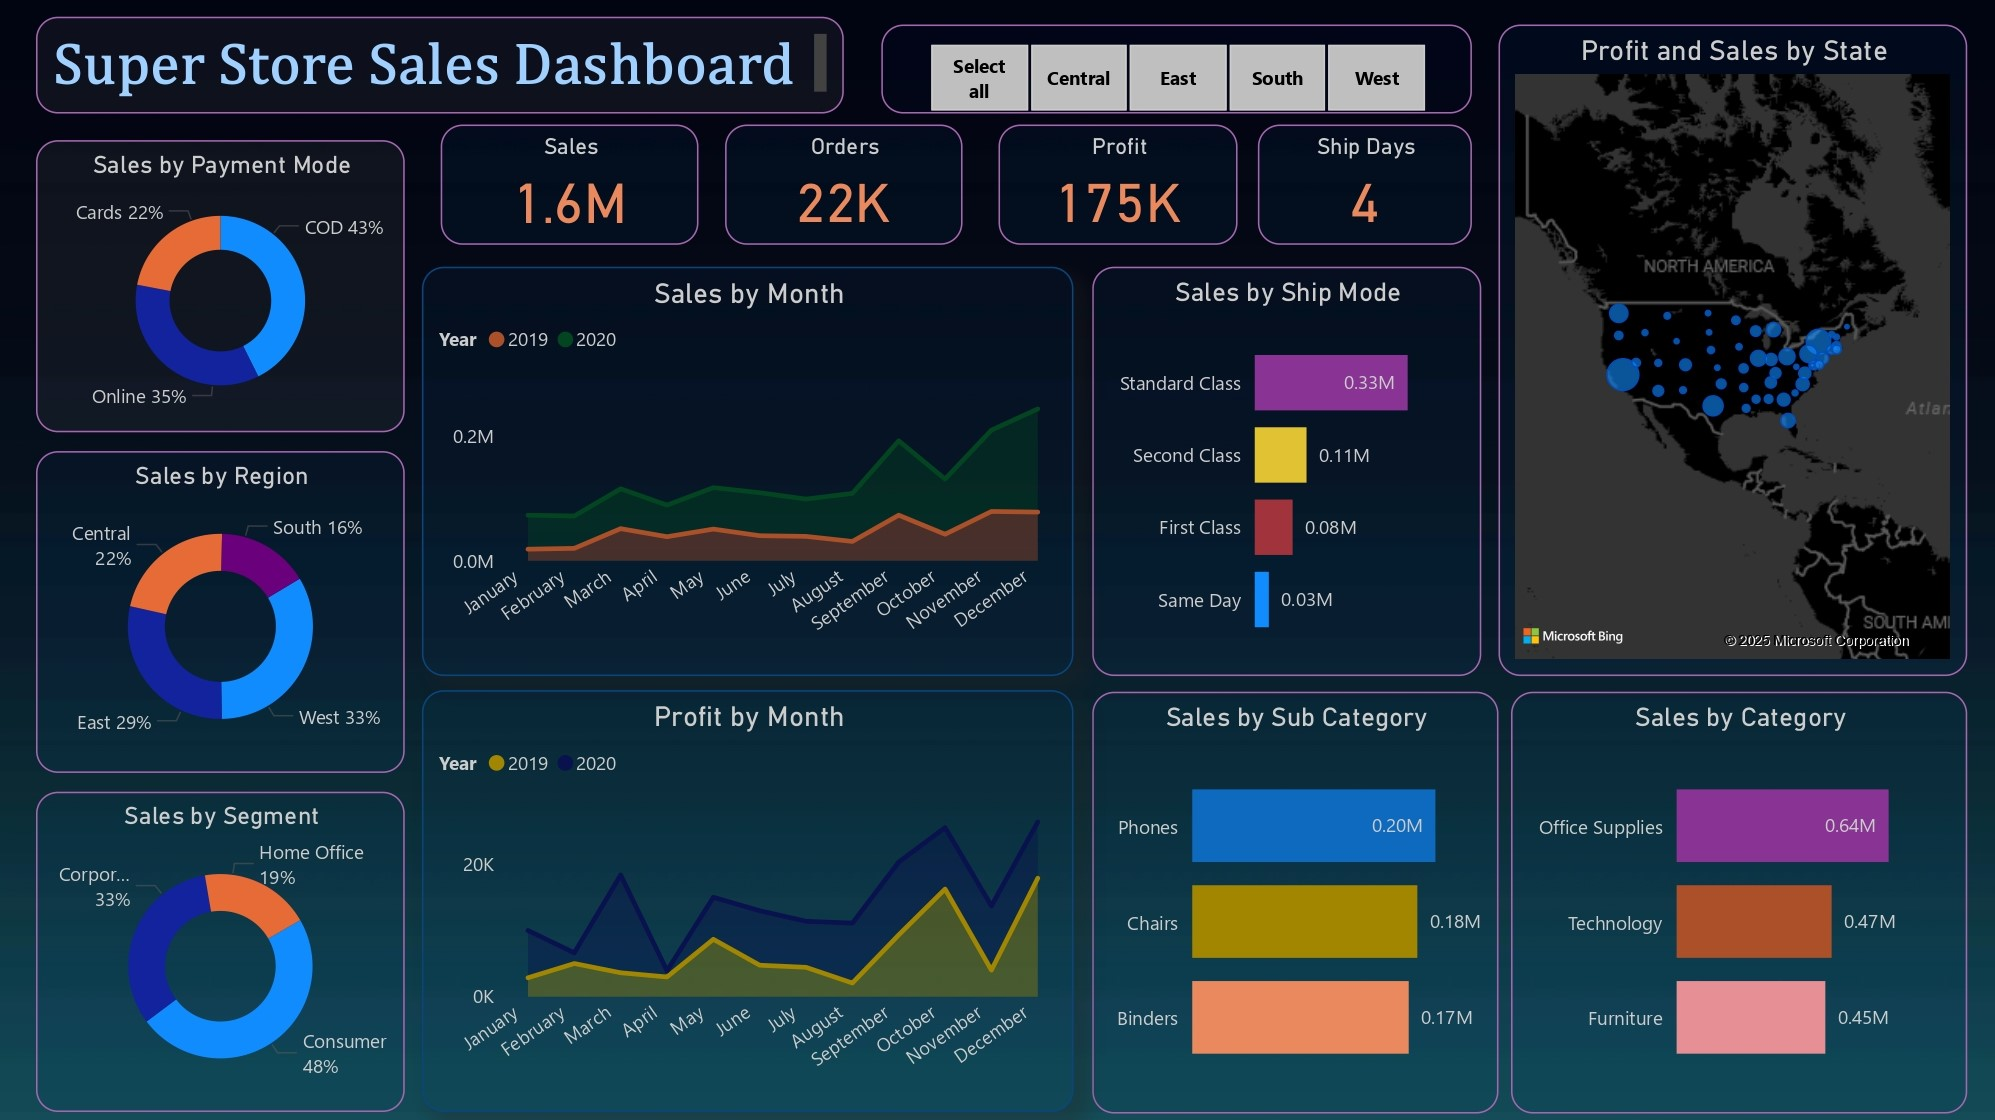

The dashboard page shown, as its layout file describes it:
{"tool":"powerbi","page":{"name":"Page 1","canvas":[1280,720],"ordinal":0},"visuals":[{"type":"clusteredBarChart","title":"Sales by Category","fields":{"Category":["Sheet1.Category"],"Y":["Sum(Sheet1.Sales)"]},"box":[968.4,443,291.7,269.9],"z":0},{"type":"clusteredBarChart","title":"Sales by Sub Category","fields":{"Y":["Sum(Sheet1.Sales)"],"Category":["Sheet1.Sub-Category"]},"box":[699.7,443,260.3,269.9],"z":1000},{"type":"clusteredBarChart","title":"Sales by Ship Mode","fields":{"Y":["Sum(Sheet1.Sales)"],"Category":["Sheet1.Ship Mode"]},"box":[699.7,170.7,249.4,262.7],"z":2000},{"type":"stackedAreaChart","title":"Sales by Month","fields":{"Y":["Sum(Sheet1.Sales)"],"Series":["Sheet1.Order Date.Variation.Date Hierarchy.Year"],"Category":["Sheet1.Order Date.Variation.Date Hierarchy.Month","Sheet1.Order Date.Variation.Date Hierarchy.Day"]},"box":[271.2,170.7,416.4,262.7],"z":3000},{"type":"stackedAreaChart","title":"Profit by Month","fields":{"Series":["Sheet1.Order Date.Variation.Date Hierarchy.Year"],"Category":["Sheet1.Order Date.Variation.Date Hierarchy.Month","Sheet1.Order Date.Variation.Date Hierarchy.Day"],"Y":["Sum(Sheet1.Profit)"]},"box":[271.2,441.8,416.4,269.9],"z":4000},{"type":"map","title":"Profit and Sales by State","fields":{"Category":["Sheet1.State"],"Size":["Sum(Sheet1.Sales)"]},"box":[959.9,15.7,300.2,417.6],"z":5000},{"type":"donutChart","title":"Sales by Segment","fields":{"Category":["Sheet1.Segment"],"Y":["Sum(Sheet1.Sales)"]},"box":[24.2,507.2,236,204.6],"z":6000},{"type":"donutChart","title":"Sales by Payment Mode","fields":{"Y":["Sum(Sheet1.Sales)"],"Category":["Sheet1.Payment Mode"]},"box":[24.2,89.6,236,187.6],"z":7000},{"type":"donutChart","title":"Sales by Region","fields":{"Y":["Sum(Sheet1.Sales)"],"Category":["Sheet1.Region"]},"box":[24.2,289.3,236,205.8],"z":8000},{"type":"slicer","fields":{"Values":["Sheet1.Region"]},"box":[565.3,15.7,377.7,56.9],"z":9000},{"type":"textbox","box":[24.2,10.9,516.9,61.7],"z":10000},{"type":"card","title":"Sales","fields":{"Values":["Sum(Sheet1.Sales)"]},"box":[283.3,79.9,164.6,77.5],"z":11000},{"type":"card","title":"Orders","fields":{"Values":["Sum(Sheet1.Quantity)"]},"box":[464.8,79.9,152.5,77.5],"z":12000},{"type":"card","title":"Profit","fields":{"Values":["Sum(Sheet1.Profit)"]},"box":[640.4,79.9,152.5,77.5],"z":13000},{"type":"card","title":"Ship Days","fields":{"Values":["Avg(Sheet1.AvgDelivery)"]},"box":[806.2,79.9,136.8,77.5],"z":14000}]}

Visuals, with their boxes in screenshot pixels (x1, y1, x2, y2), scaled from the page's 1280x720 canvas onto the 1995x1120 screenshot:
"Sales by Category" clusteredBarChart: {"x1": 1509, "y1": 689, "x2": 1964, "y2": 1109}
"Sales by Sub Category" clusteredBarChart: {"x1": 1091, "y1": 689, "x2": 1496, "y2": 1109}
"Sales by Ship Mode" clusteredBarChart: {"x1": 1091, "y1": 266, "x2": 1479, "y2": 674}
"Sales by Month" stackedAreaChart: {"x1": 423, "y1": 266, "x2": 1072, "y2": 674}
"Profit by Month" stackedAreaChart: {"x1": 423, "y1": 687, "x2": 1072, "y2": 1107}
"Profit and Sales by State" map: {"x1": 1496, "y1": 24, "x2": 1964, "y2": 674}
"Sales by Segment" donutChart: {"x1": 38, "y1": 789, "x2": 406, "y2": 1107}
"Sales by Payment Mode" donutChart: {"x1": 38, "y1": 139, "x2": 406, "y2": 431}
"Sales by Region" donutChart: {"x1": 38, "y1": 450, "x2": 406, "y2": 770}
slicer - Sheet1.Region: {"x1": 881, "y1": 24, "x2": 1470, "y2": 113}
textbox: {"x1": 38, "y1": 17, "x2": 843, "y2": 113}
"Sales" card: {"x1": 442, "y1": 124, "x2": 698, "y2": 245}
"Orders" card: {"x1": 724, "y1": 124, "x2": 962, "y2": 245}
"Profit" card: {"x1": 998, "y1": 124, "x2": 1236, "y2": 245}
"Ship Days" card: {"x1": 1257, "y1": 124, "x2": 1470, "y2": 245}
